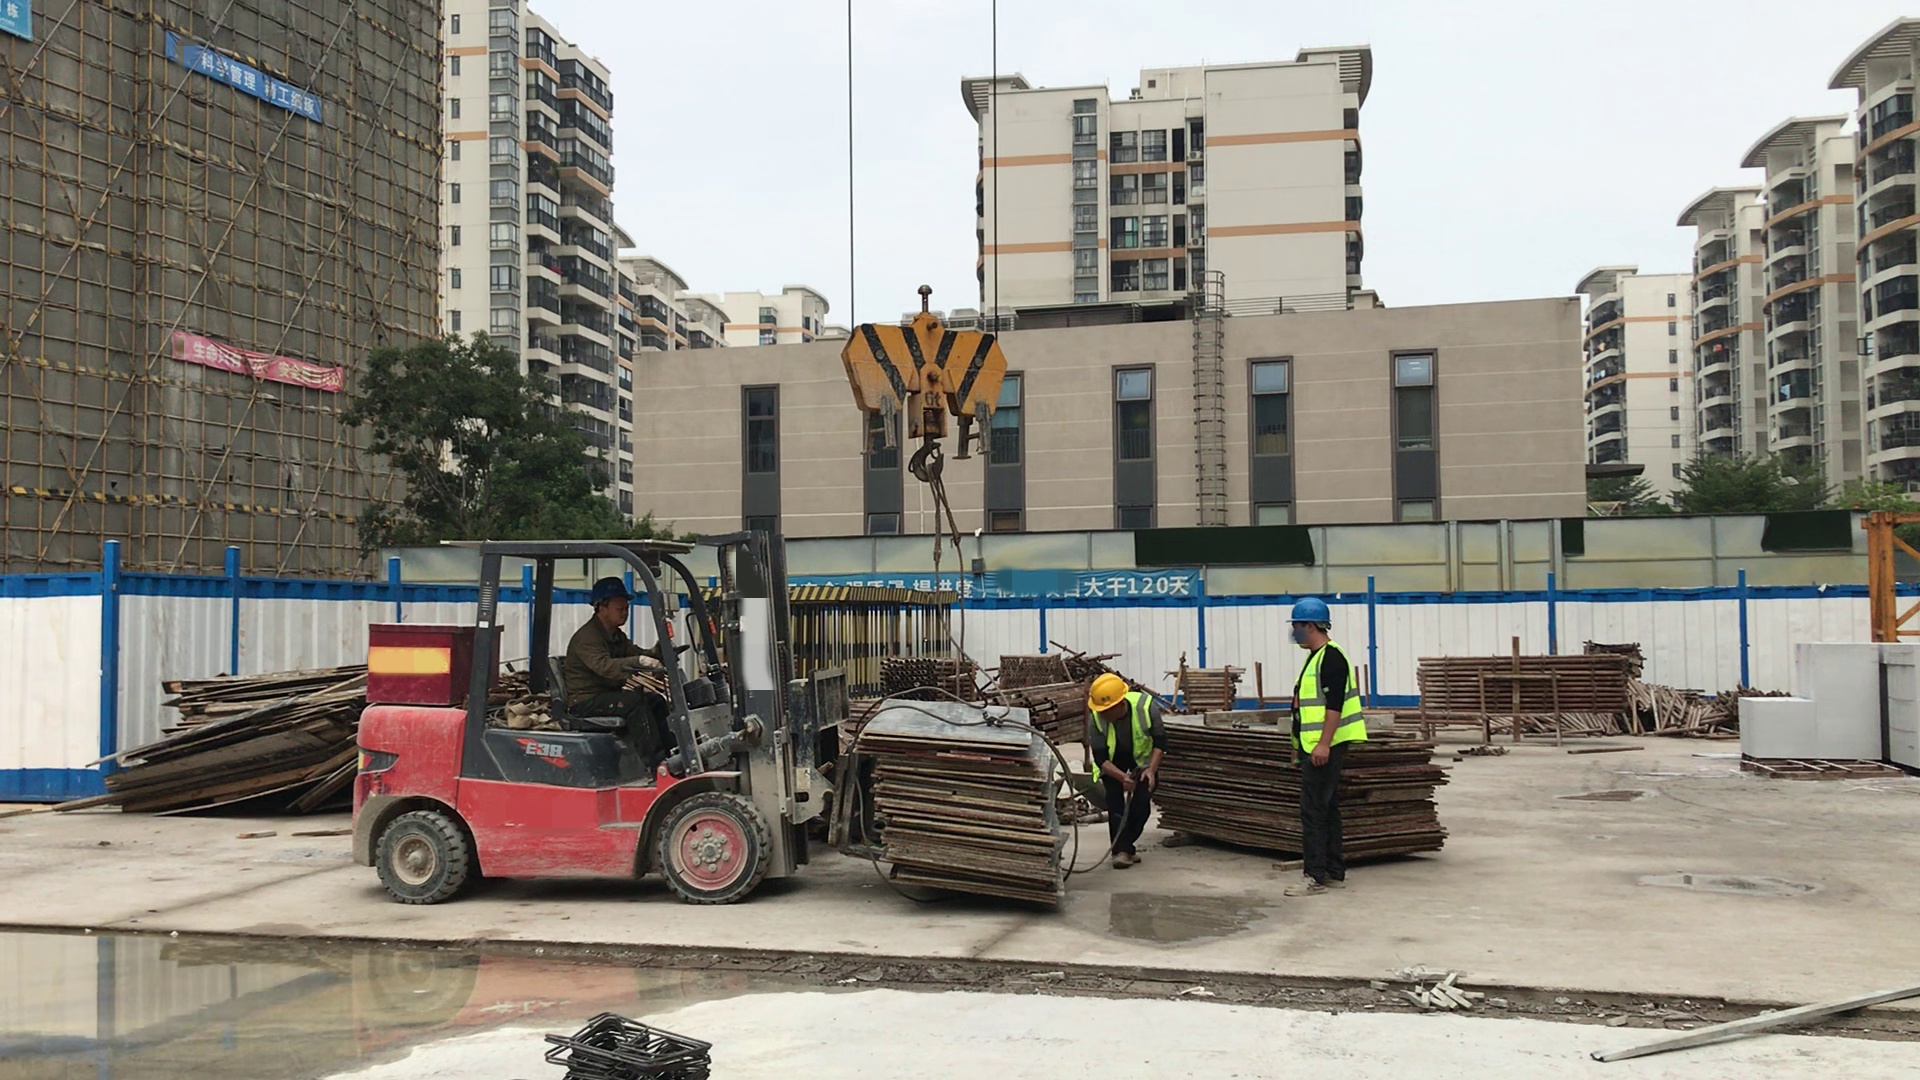board: (854, 687, 1075, 917), (88, 661, 351, 823), (1155, 705, 1288, 872), (1345, 730, 1459, 868)
brick: (1732, 639, 1886, 767), (1884, 643, 1920, 771)
helmet: (589, 572, 634, 613), (1089, 676, 1130, 715), (1292, 597, 1334, 628)
hook: (836, 282, 1019, 495)
person: (1285, 595, 1367, 889), (560, 576, 667, 782), (1082, 674, 1152, 872)
scaffold: (1406, 652, 1636, 718), (1161, 661, 1249, 711)
slogan: (162, 22, 321, 119), (166, 323, 341, 390), (940, 572, 1192, 605), (1, 1, 26, 39)
vest: (1292, 646, 1366, 756), (1087, 709, 1156, 786)
